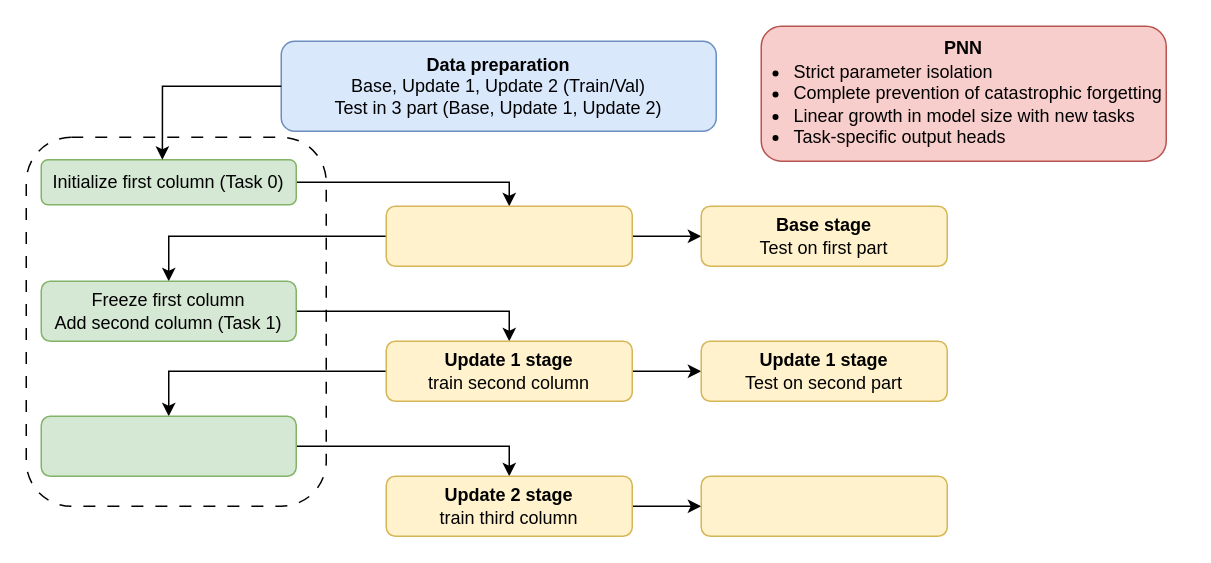
The diagram is 1211 pixels wide and 563 high, and some of its shapes have lost their labels. Each missing label, with the centre of its shape:
Base stage train first column: point 508,235
Freeze second column Add third column (Task 2): point 168,445
Update 2 stage Test on third part: point 823,505
